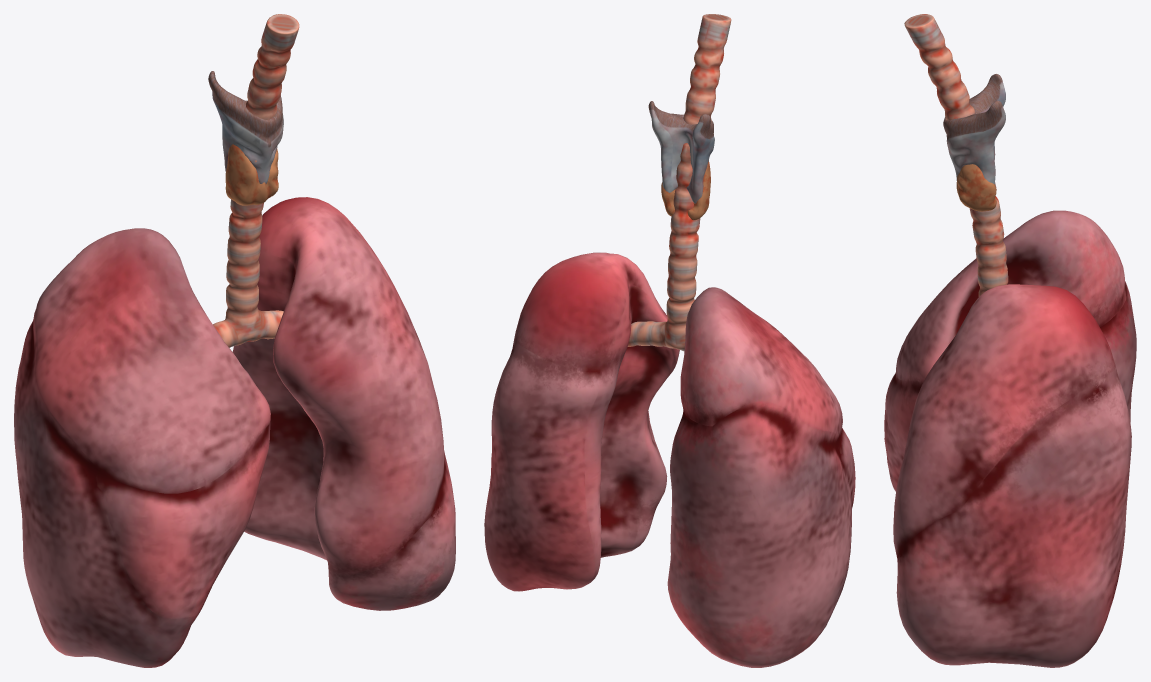
Rendered from pulmao.glb.
3 views of the same model, side by side, from view 1: azimuth 30°, elevation 25°; view 2: azimuth 150°, elevation 25°; view 3: azimuth 270°, elevation 25° (orthographic). The views are drawn at different scales.
Parts seen in each view (by area): view 1: thairoid01:low_part02_Group6344:Group24638_thairoid01:lungh_, thairoid01:low_part01_Group6344:Group18522_thairoid01:lungh_; view 2: thairoid01:low_part02_Group6344:Group24638_thairoid01:lungh_, thairoid01:low_part01_Group6344:Group18522_thairoid01:lungh_; view 3: thairoid01:low_part02_Group6344:Group24638_thairoid01:lungh_, thairoid01:low_part01_Group6344:Group18522_thairoid01:lungh_.
Boxes of the visible parts, x1,y1,x2,y2 form: thairoid01:low_part02_Group6344:Group24638_thairoid01:lungh_: (14,197,455,667); thairoid01:low_part01_Group6344:Group18522_thairoid01:lungh_: (208,14,299,347); thairoid01:low_part02_Group6344:Group24638_thairoid01:lungh_: (484,252,855,667); thairoid01:low_part01_Group6344:Group18522_thairoid01:lungh_: (627,14,731,351); thairoid01:low_part02_Group6344:Group24638_thairoid01:lungh_: (884,210,1136,667); thairoid01:low_part01_Group6344:Group18522_thairoid01:lungh_: (904,14,1008,296).
Size of the model in its own units: 0.2232 by 0.3687 by 0.1423.
2 materials, 2 textured.
